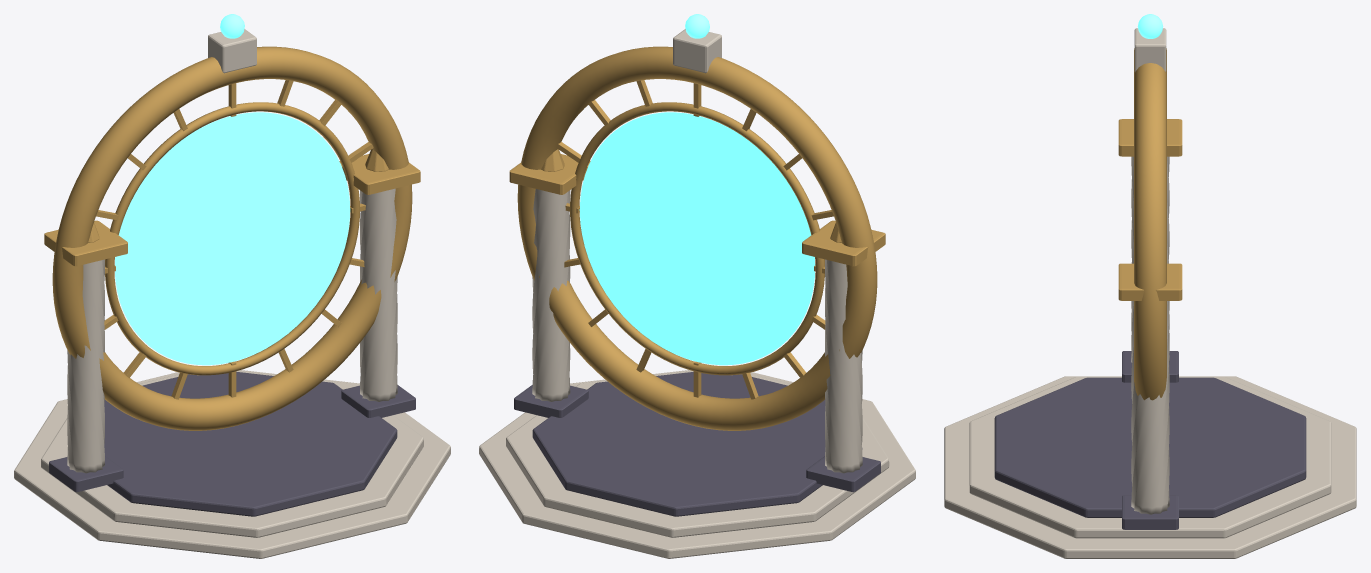
File: gate.glb
3 views of the same model, side by side, from view 1: azimuth 30°, elevation 25°; view 2: azimuth 150°, elevation 25°; view 3: azimuth 270°, elevation 25° (orthographic).
Visible parts, largest first — view 1: CoreDisc, OuterRing, Step2, Step0, Step1, InnerRing, Column1, Column-1, Capital-1_6.4, Capital1_6.4, Keystone, Capital-1_0.8 (+1 smaller); view 2: CoreDisc, OuterRing, Step2, Step0, Step1, InnerRing, Column1, Column-1, Capital-1_6.4, Capital1_6.4, Keystone, Capital-1_0.8 (+1 smaller); view 3: Step2, Step0, Step1, OuterRing, Column1, Capital1_6.4, Capital1_0.8, Capital-1_6.4, Keystone, Column-1, Capital-1_0.8, Crown.
Part boxes in pixels (x1,y1,x2,y2): CoreDisc: (115, 112, 350, 365); OuterRing: (52, 46, 412, 430); Step2: (104, 372, 397, 516); Step0: (14, 370, 450, 558); Step1: (41, 371, 423, 537); InnerRing: (105, 102, 359, 375); Column1: (360, 188, 397, 401); Column-1: (67, 259, 104, 473); Capital-1_6.4: (44, 220, 127, 266); Capital1_6.4: (339, 154, 420, 194); Keystone: (208, 29, 256, 73); Capital-1_0.8: (49, 456, 123, 492); CoreDisc: (579, 112, 815, 365); OuterRing: (517, 46, 877, 430); Step2: (532, 372, 862, 516); Step0: (479, 370, 915, 558); Step1: (506, 371, 889, 537); InnerRing: (570, 102, 824, 375); Column1: (532, 189, 570, 401); Column-1: (825, 259, 862, 473); Capital-1_6.4: (802, 220, 885, 266); Capital1_6.4: (509, 154, 590, 194); Keystone: (673, 29, 721, 73); Capital-1_0.8: (806, 456, 880, 492); Step2: (994, 377, 1306, 517); Step0: (944, 376, 1356, 558); Step1: (969, 377, 1331, 538); OuterRing: (1134, 48, 1166, 400); Column1: (1131, 301, 1169, 514); Capital1_6.4: (1118, 263, 1182, 300); Capital1_0.8: (1122, 495, 1178, 529); Capital-1_6.4: (1118, 119, 1182, 156); Keystone: (1134, 28, 1166, 71); Column-1: (1131, 156, 1169, 362); Capital-1_0.8: (1122, 351, 1178, 382); Crown: (1137, 14, 1163, 38).
Bounding box in the file's own units: 9.12 × 11.08 × 9.05.
